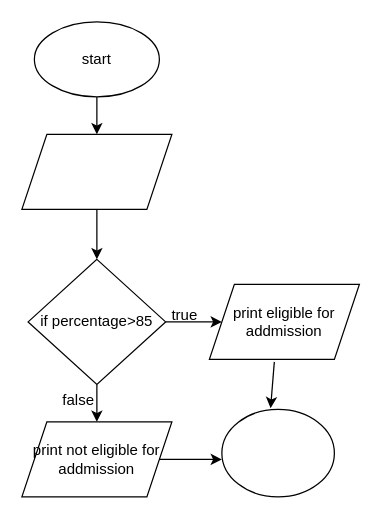
Image size: 381x519. Some labels were removed from this diagram. The shapes that lost their labels are listed below. From the top down, each one's box as (x1, y1, x2, y2) in pixels, then its label:
(21, 133, 172, 209): percentage
(221, 408, 334, 497): stop
